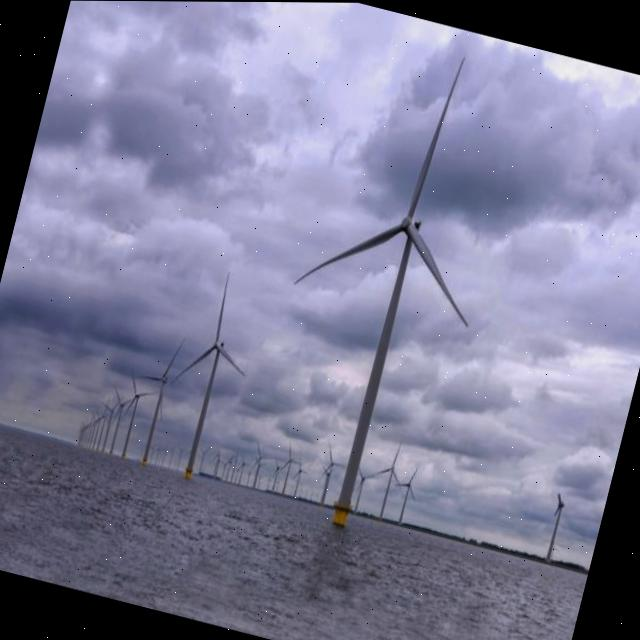solid-blade: (407, 58, 464, 216), (294, 224, 402, 283)
wind-turbine: (294, 58, 467, 526), (173, 274, 245, 479)
